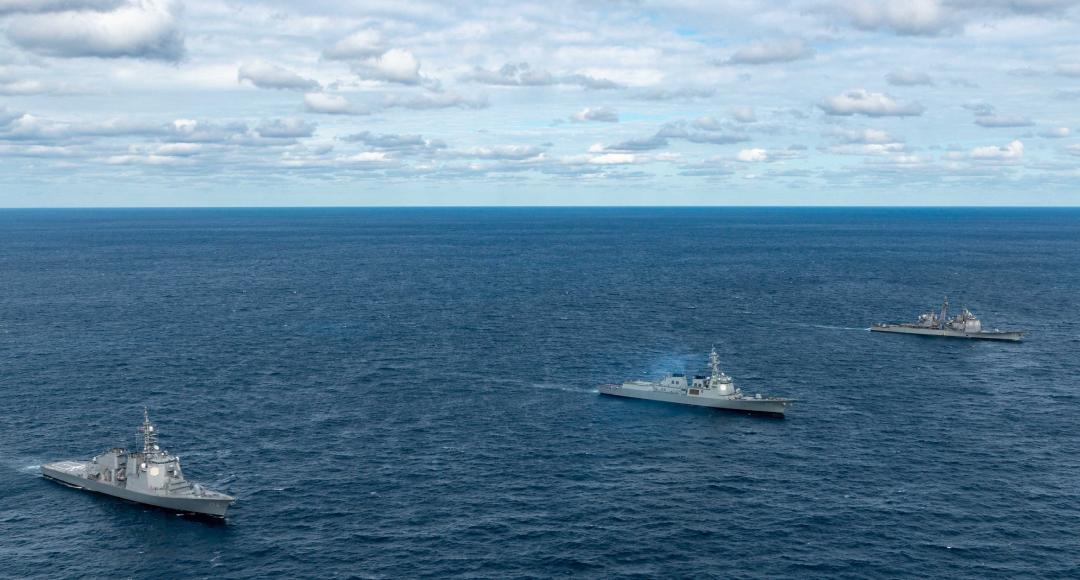Ship: (36, 421, 239, 522), (591, 345, 802, 423), (870, 300, 1033, 346)
